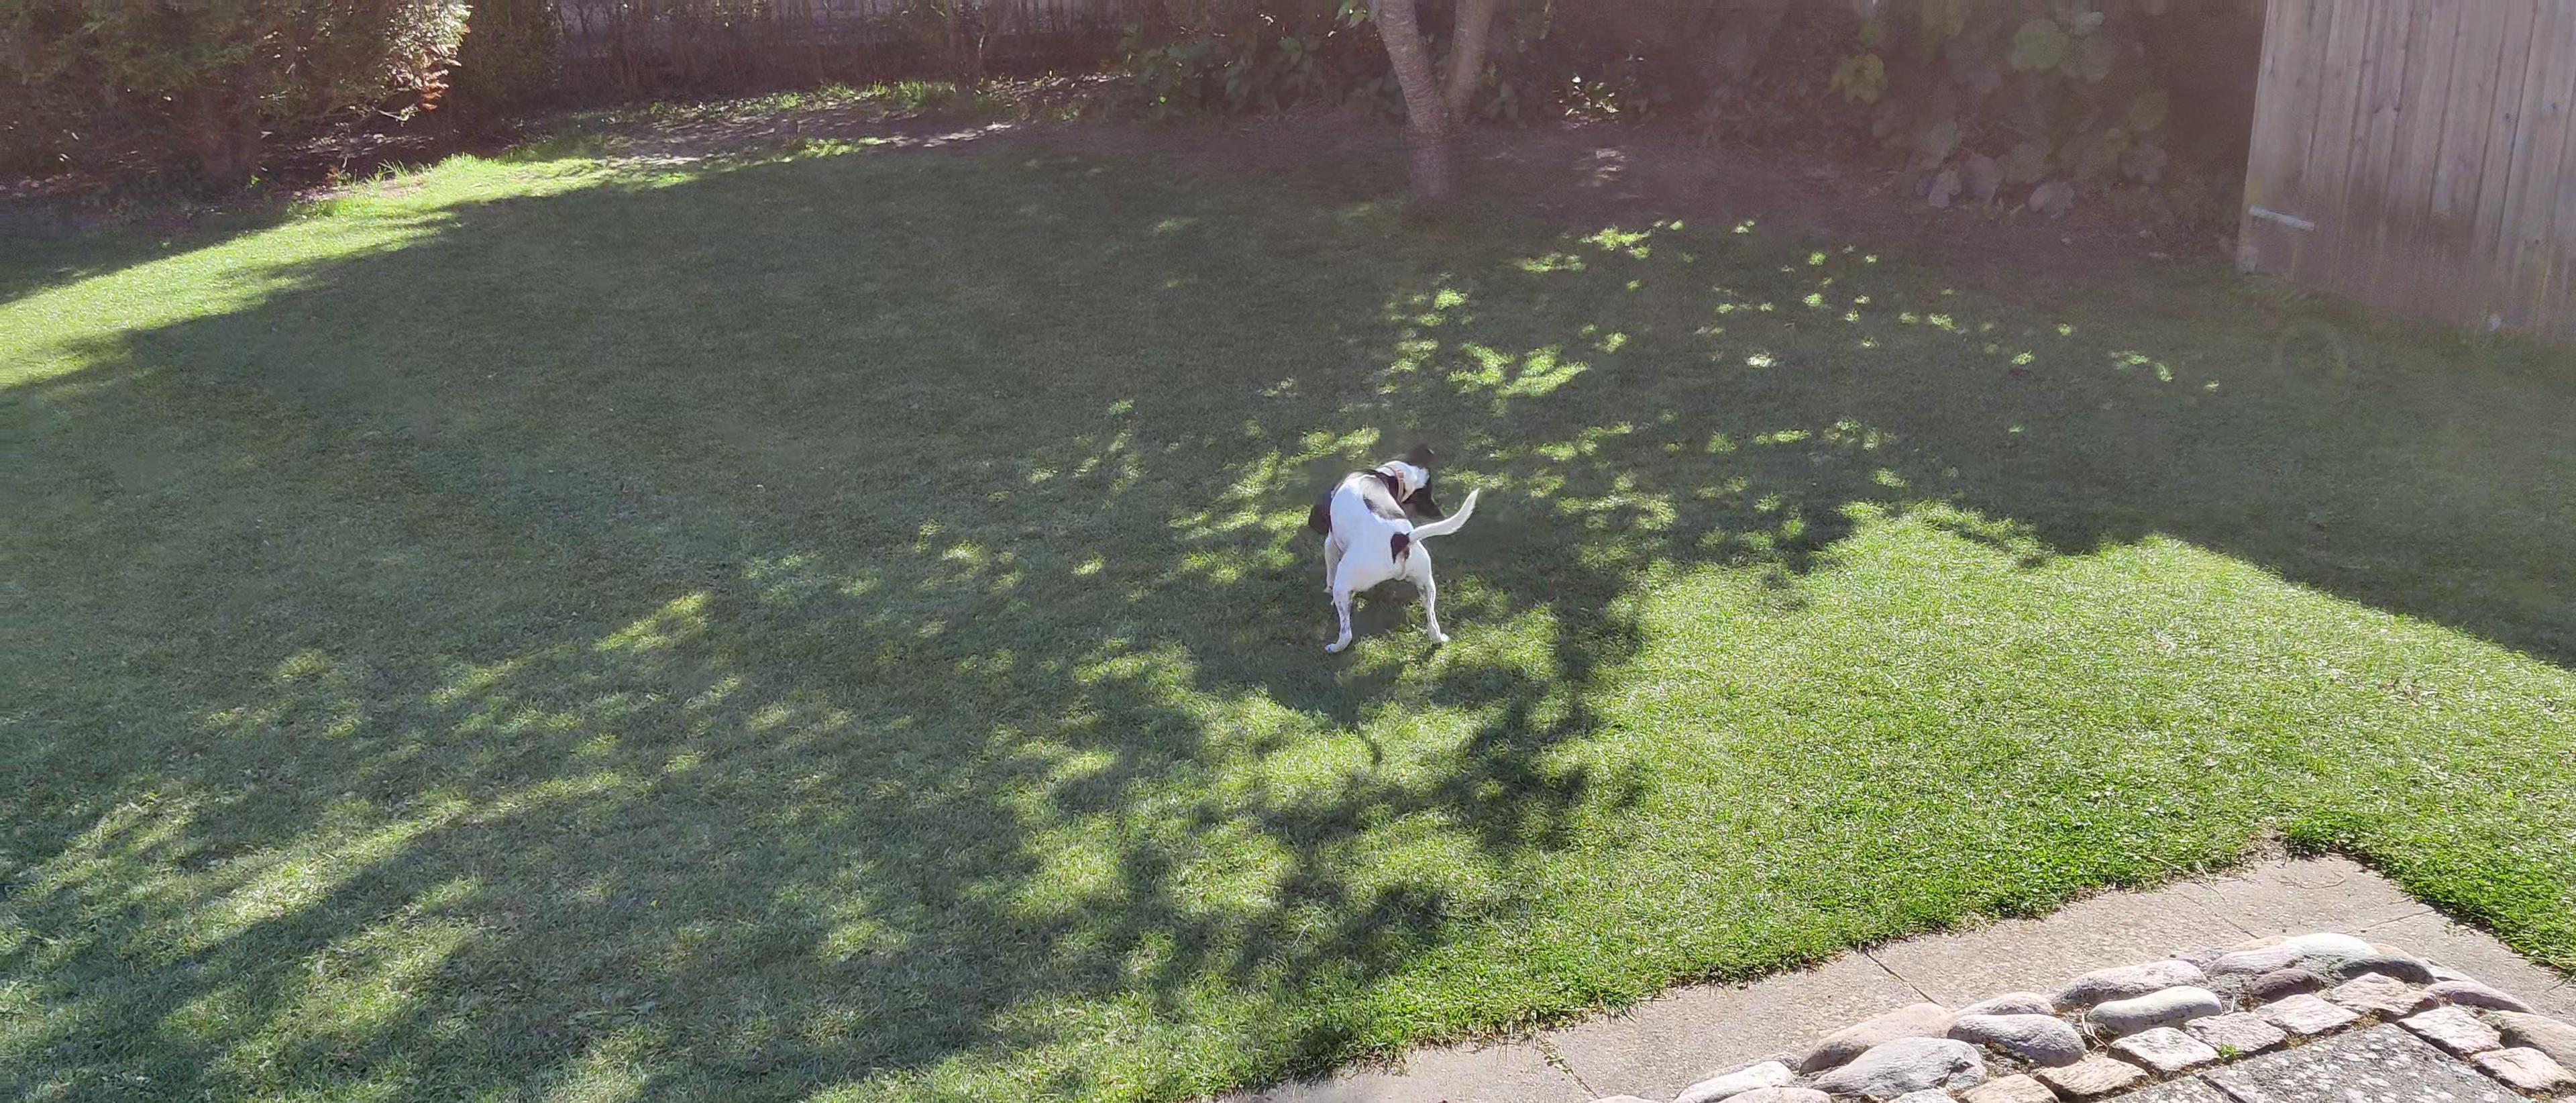Dog: (1299, 427, 1487, 666)
